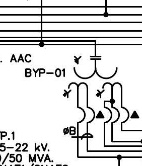115_cvt_3p: (62, 56, 123, 99)
